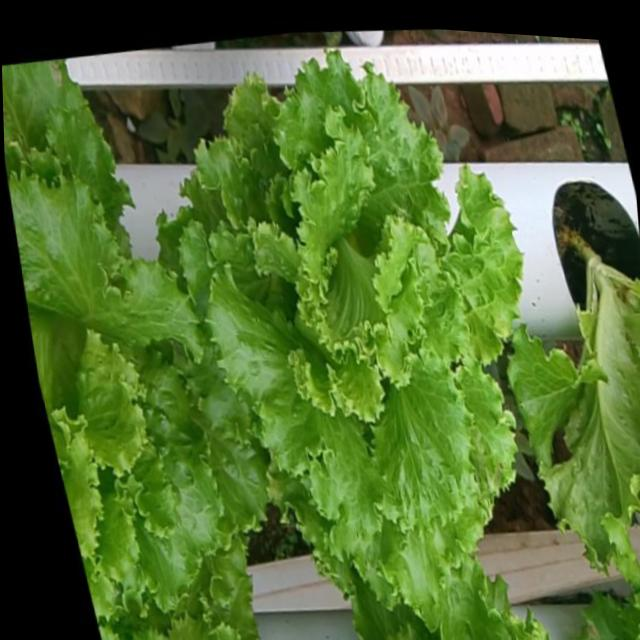Mature: (167, 45, 512, 598), (6, 159, 260, 604)
